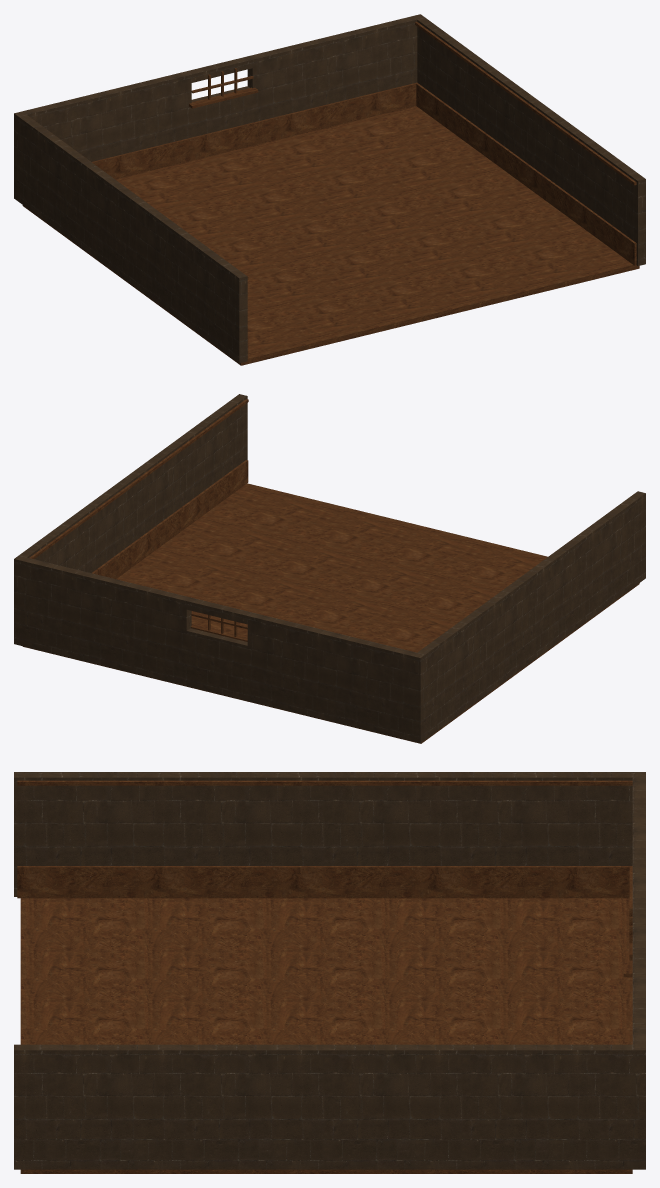
Rendered from office-rebuilt.glb.
3 renders of one model, top to bottom at view 1: azimuth 30°, elevation 25°; view 2: azimuth 150°, elevation 25°; view 3: azimuth 270°, elevation 25°, orthographic. The views are drawn at different scales.
Visible parts, largest first — view 1: 木地板, 办公室侧墙, 办公室侧墙.001, 后墙下方, 后墙木墙裙, 侧墙木墙裙.001, 后墙上方, 窗右墙, 窗左墙, 侧墙檐线.001; view 2: 木地板, 后墙下方, 办公室侧墙, 办公室侧墙.001, 后墙上方, 窗左墙, 窗右墙, 侧墙木墙裙.001, 侧墙檐线.001; view 3: 木地板, 办公室侧墙.001, 办公室侧墙, 侧墙木墙裙, 后墙上方, 侧墙檐线, 后墙下方.
Boxes of the visible parts, left/top/right/bottom form: 木地板: left=22, top=106, right=639, bottom=365; 办公室侧墙: left=16, top=113, right=247, bottom=363; 办公室侧墙.001: left=415, top=16, right=645, bottom=265; 后墙下方: left=14, top=49, right=417, bottom=199; 后墙木墙裙: left=92, top=82, right=417, bottom=179; 侧墙木墙裙.001: left=415, top=83, right=636, bottom=265; 后墙上方: left=14, top=14, right=423, bottom=122; 窗右墙: left=247, top=26, right=417, bottom=88; 窗左墙: left=14, top=79, right=191, bottom=144; 侧墙檐线.001: left=415, top=22, right=636, bottom=185; 木地板: left=23, top=483, right=639, bottom=743; 后墙下方: left=14, top=589, right=425, bottom=743; 办公室侧墙: left=415, top=491, right=645, bottom=741; 办公室侧墙.001: left=16, top=394, right=247, bottom=573; 后墙上方: left=14, top=556, right=425, bottom=666; 窗左墙: left=247, top=620, right=425, bottom=687; 窗右墙: left=14, top=563, right=191, bottom=630; 侧墙木墙裙.001: left=92, top=460, right=248, bottom=579; 侧墙檐线.001: left=29, top=399, right=248, bottom=558; 木地板: left=20, top=898, right=632, bottom=1173; 办公室侧墙.001: left=14, top=1044, right=639, bottom=1169; 办公室侧墙: left=14, top=772, right=639, bottom=896; 侧墙木墙裙: left=17, top=866, right=632, bottom=898; 后墙上方: left=632, top=772, right=645, bottom=1061; 侧墙檐线: left=17, top=780, right=632, bottom=785; 后墙下方: left=632, top=1092, right=645, bottom=1169.
Bounding box in the file's own units: 20 × 4.24 × 19.2.
2 materials, 2 textured.
